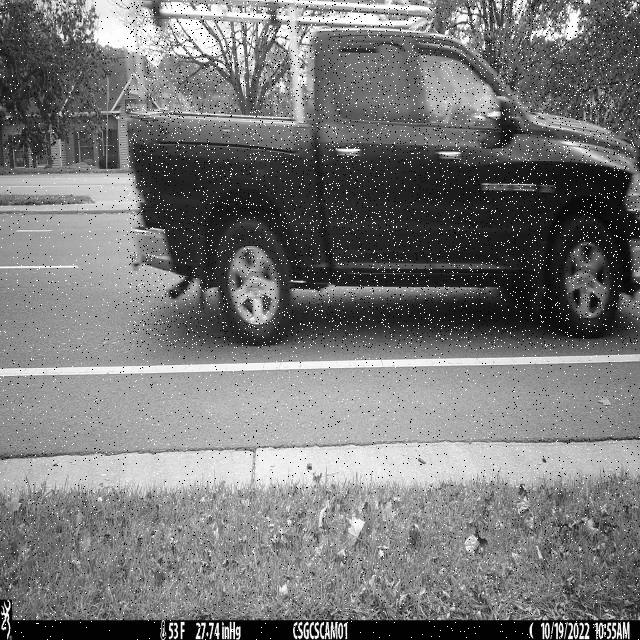Pickup: (127, 0, 640, 348)
